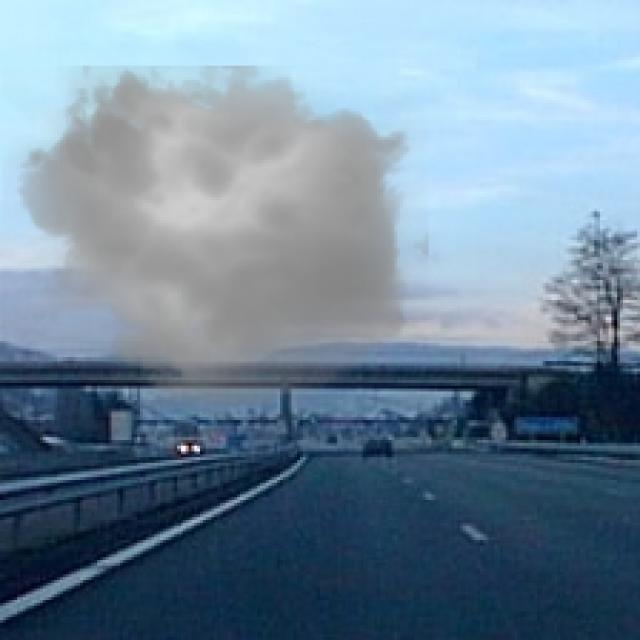Smoke: (2, 48, 428, 420)
